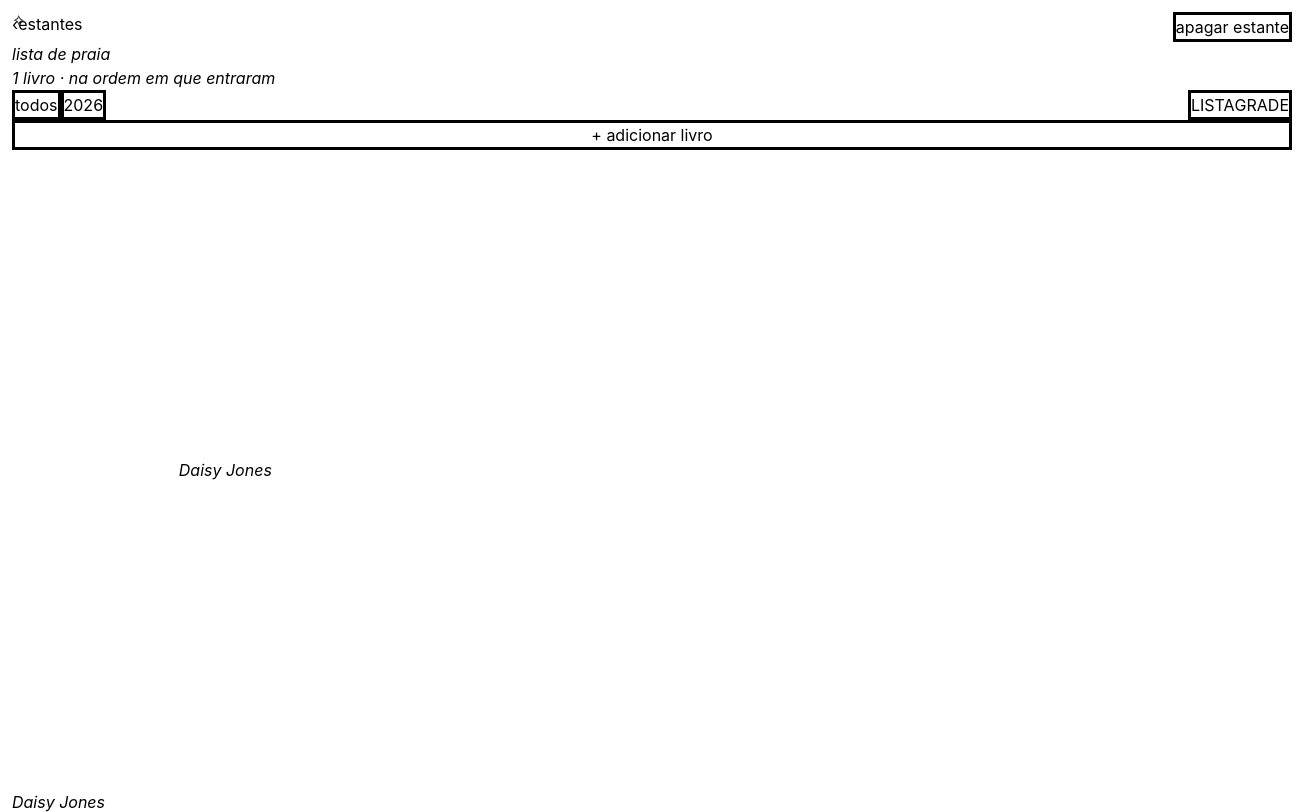
Test case: Estantes › livro repetido na estante é explicado
Step 1. Click the button "+ adicionar livro" → (652, 135), box left=12, top=120, right=1292, bottom=150
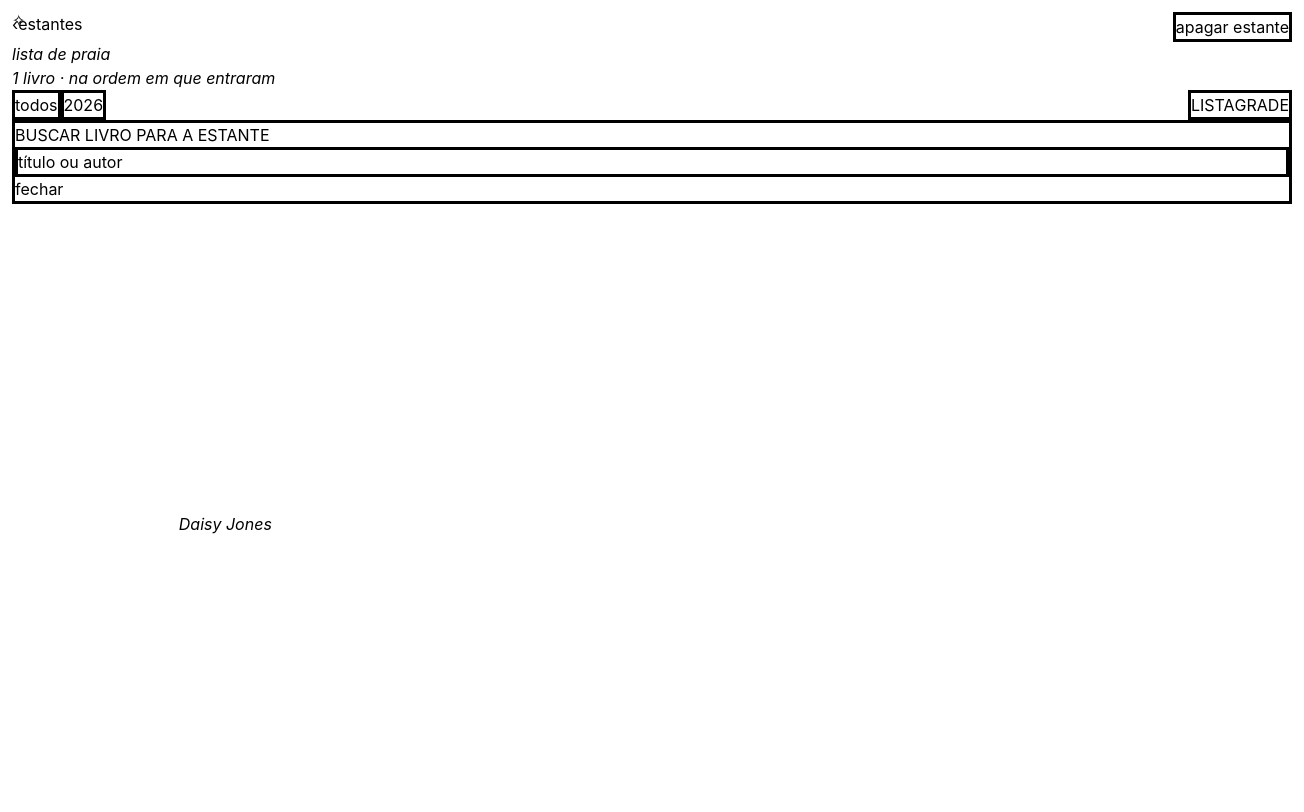
Step 2. Type "torto" into the dropdown labelled "Buscar livro para a estante" → (652, 162), box left=15, top=147, right=1289, bottom=177
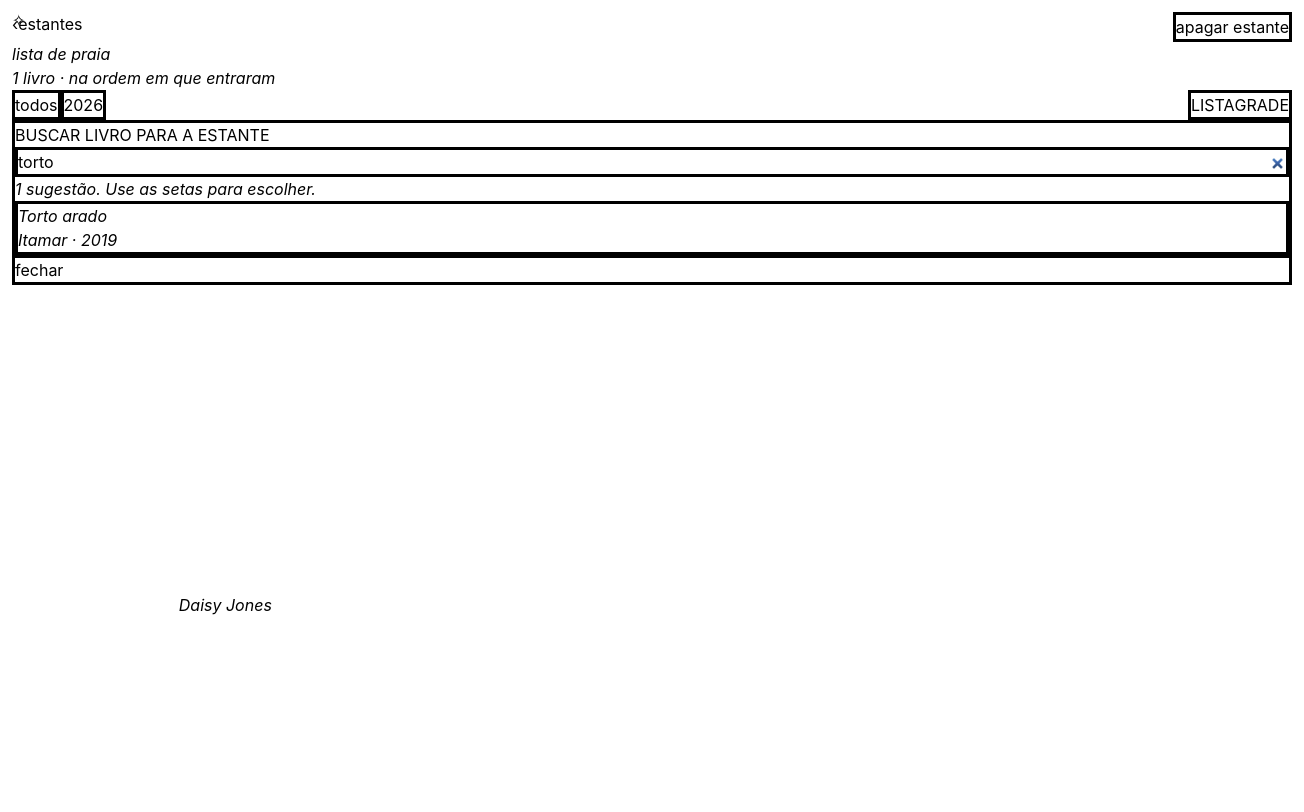
Step 3. Click the option "Torto arado Itamar · 2019" → (62, 216), box left=18, top=204, right=1286, bottom=255
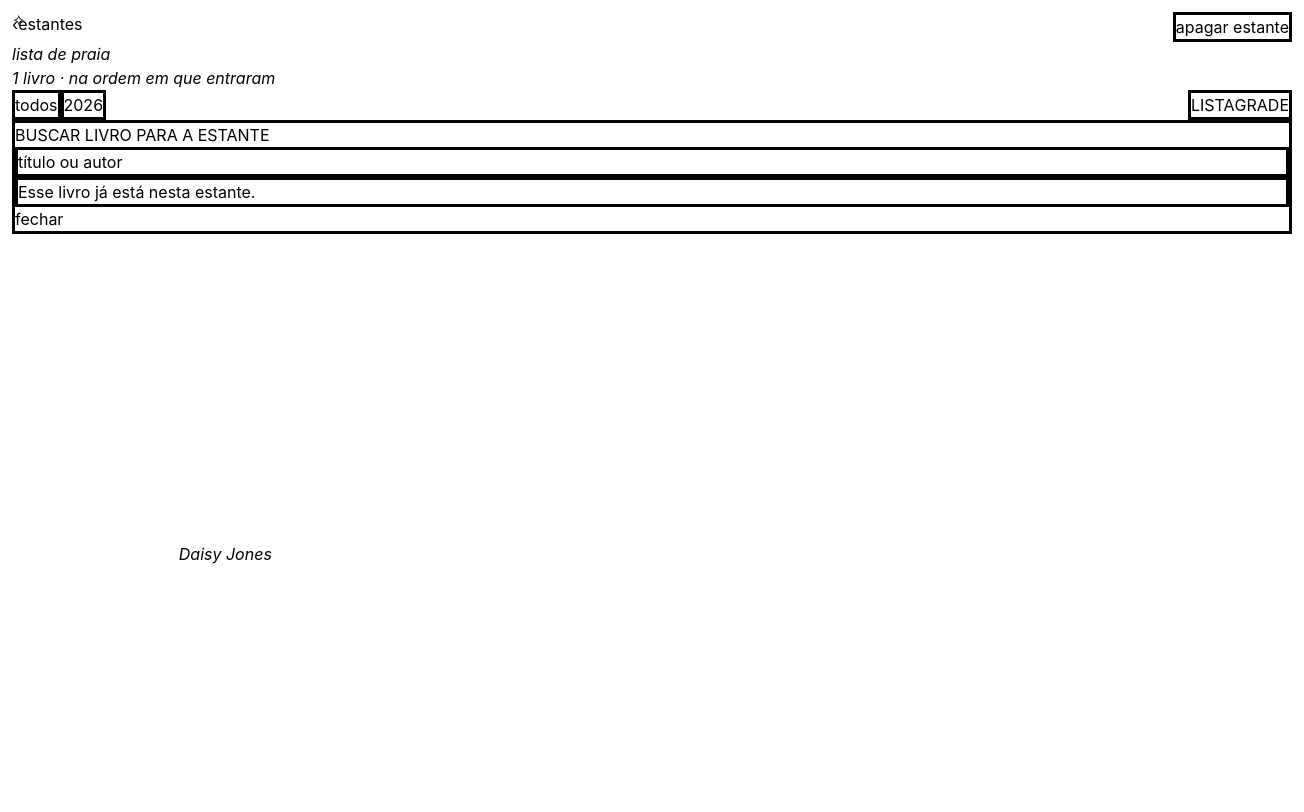
expect the message reads "Esse livro já está nesta estante.": met, box left=18, top=182, right=255, bottom=202
